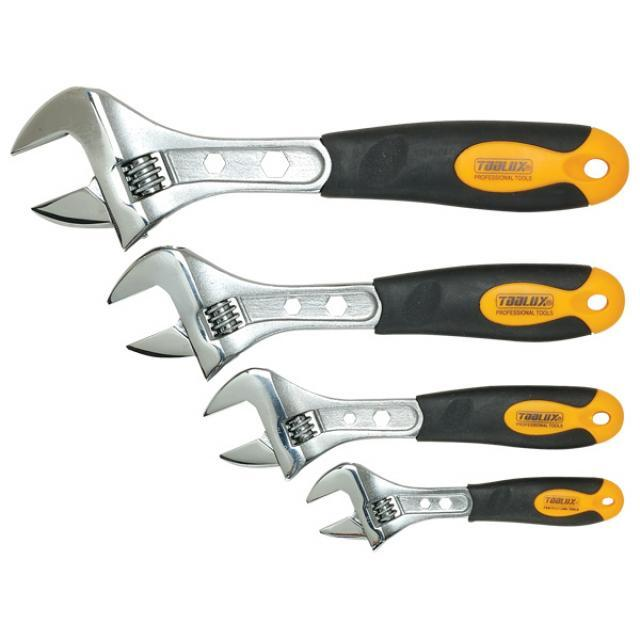wrench: (3, 75, 640, 254), (100, 240, 630, 384), (198, 363, 628, 484), (299, 456, 628, 554)
